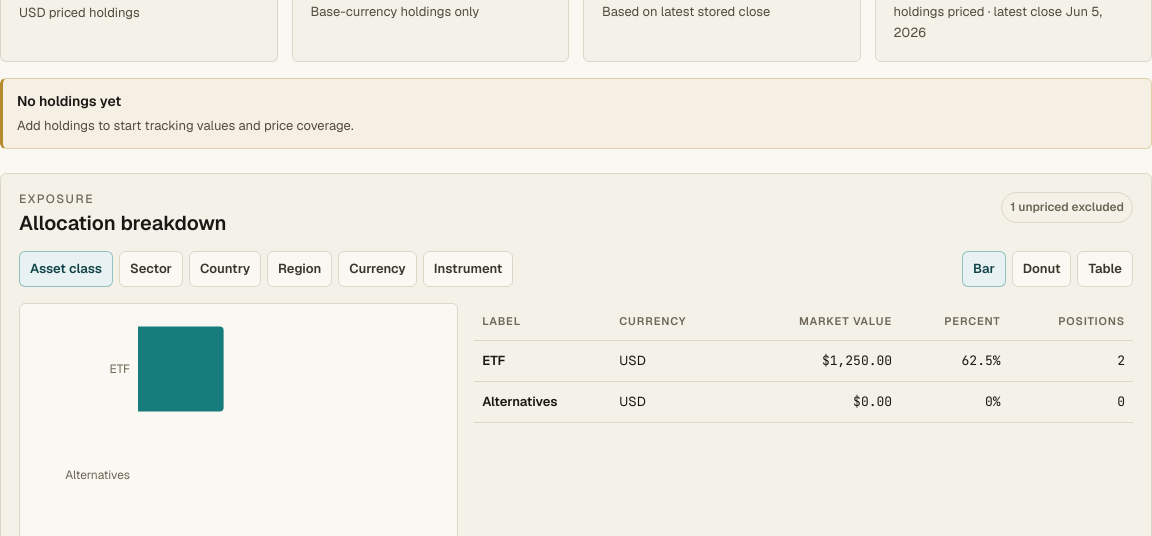
it: allocation composition drill-down › opens the same composition popover on row hover
The image size is (1152, 536).
Hover over the button with aria-label "ETF USD composition": (804, 361) 474,340 -> 1133,382
(page scrolled)
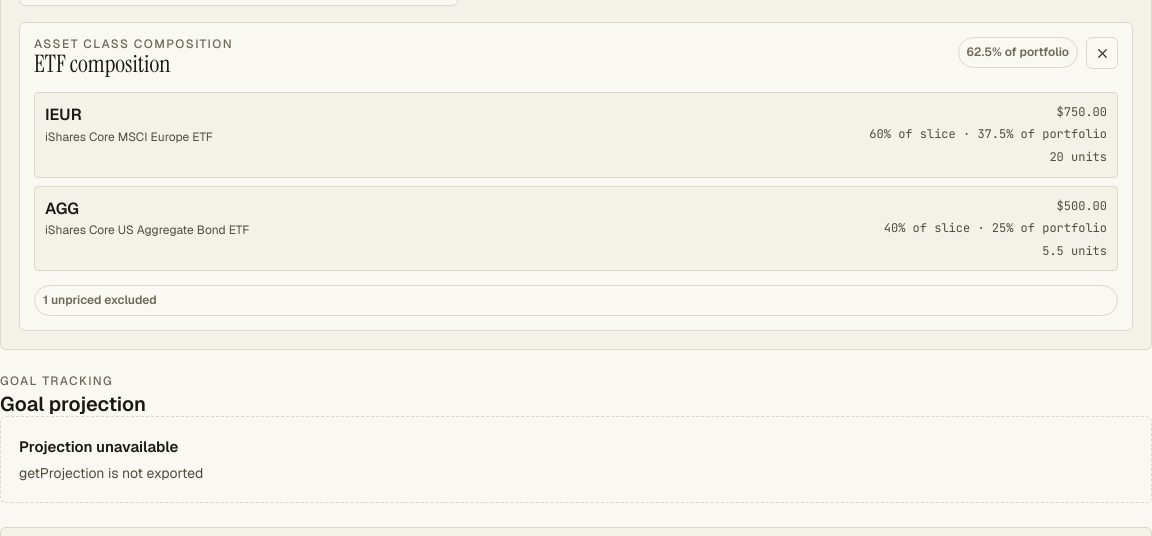
Expected: the dialog "ETF composition" is shown, 19,22 -> 1133,331
